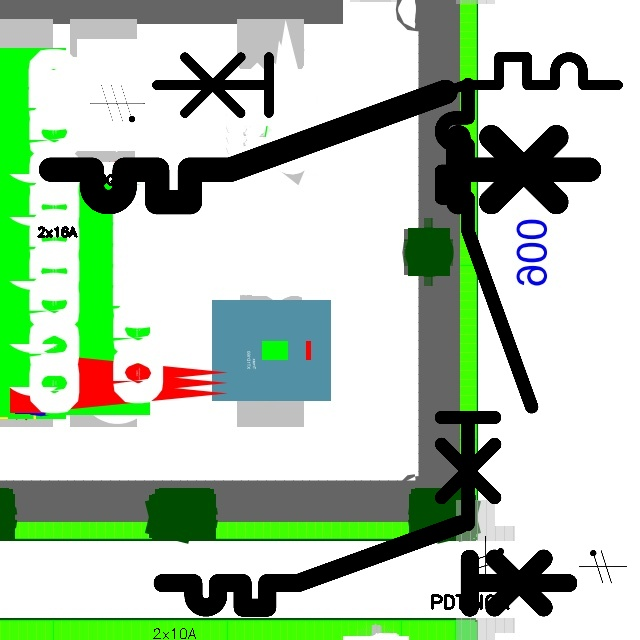interruptor_termomagnetico: (37, 78, 602, 216), (144, 45, 629, 163), (430, 73, 543, 536), (152, 514, 579, 618)
